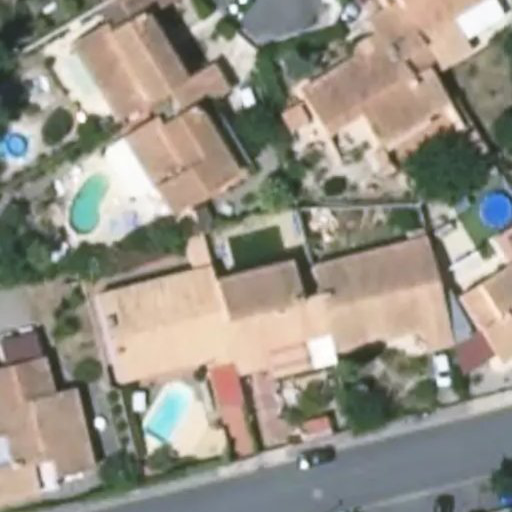pool: (226, 233, 285, 248)
